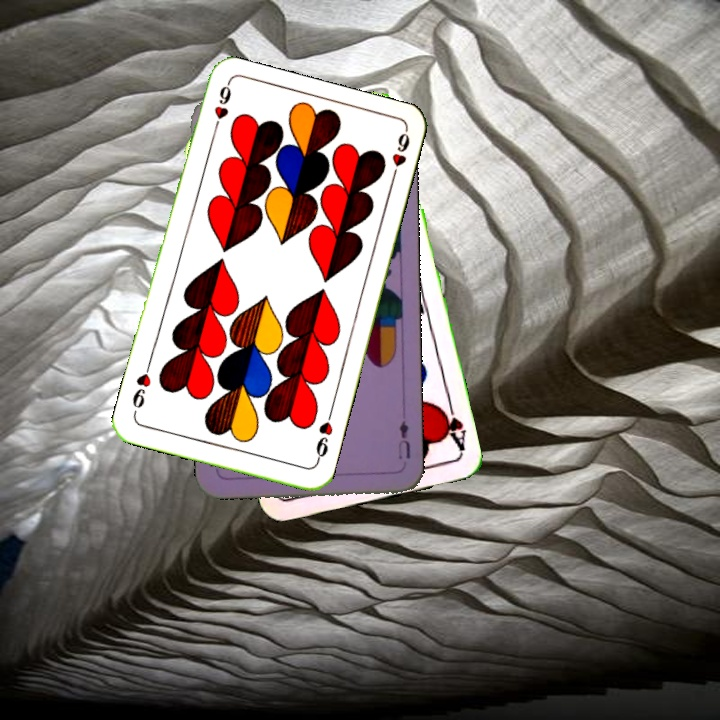EU: (394, 417, 413, 462)
H9: (208, 81, 234, 139), (311, 408, 336, 467)
HA: (435, 397, 469, 455)
